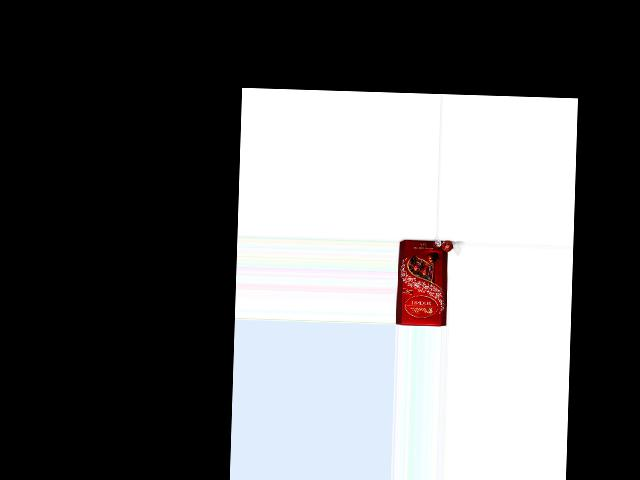chocolate: (396, 239, 454, 326)
